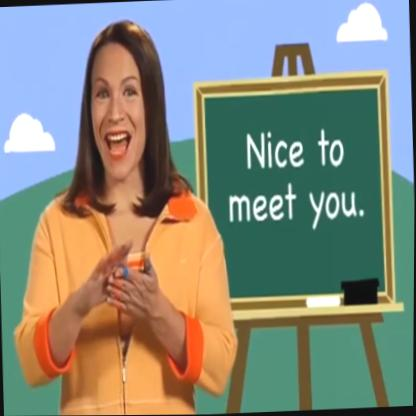NiceToMeetYou: (78, 224, 165, 329)
